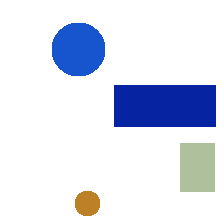circle: (52, 23, 104, 75), (75, 191, 99, 215)
rectangle: (114, 85, 215, 126), (180, 143, 214, 191)
